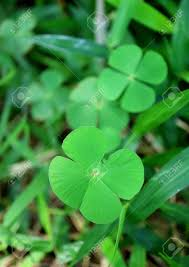4-clover: (50, 128, 144, 217), (100, 46, 169, 111)
